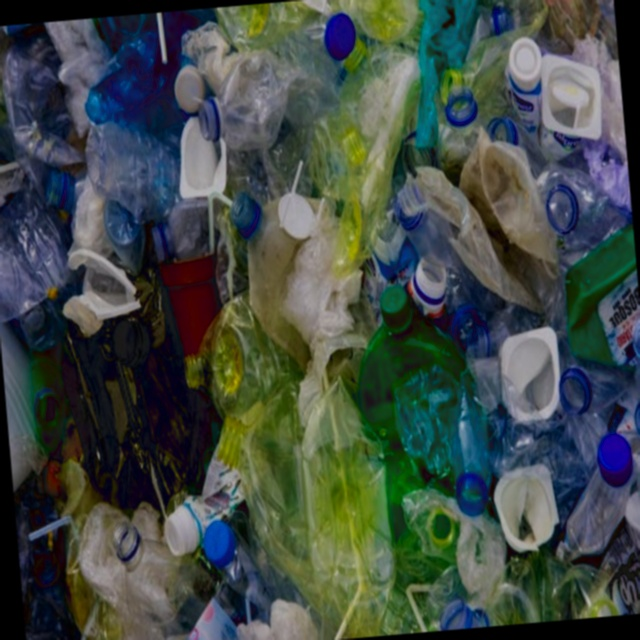algae_bloom: (202, 286, 500, 640), (275, 0, 508, 278)
floating_debris: (13, 13, 627, 627)
turbid_water: (174, 0, 616, 640)
